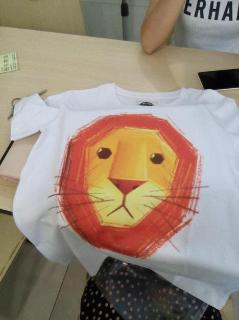short sleeve top: (11, 82, 239, 311)
